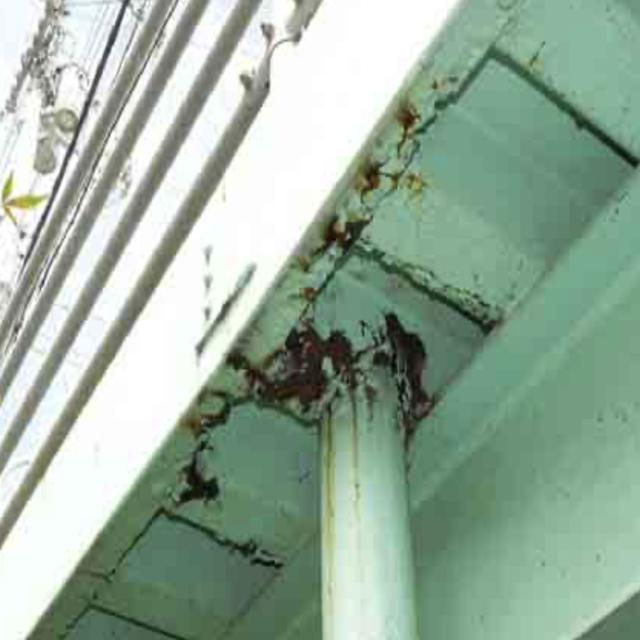corrosion: (171, 318, 436, 508), (304, 86, 443, 260)
